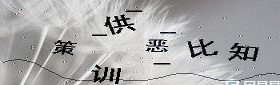chinese: (230, 40, 257, 65), (90, 65, 118, 85), (189, 38, 213, 61), (104, 16, 133, 34), (52, 39, 72, 57), (145, 37, 165, 55)
